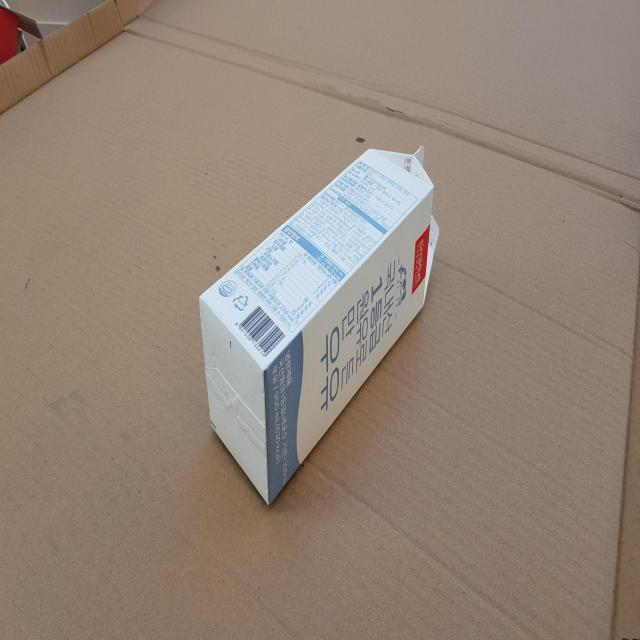paperpack: (200, 145, 439, 503)
